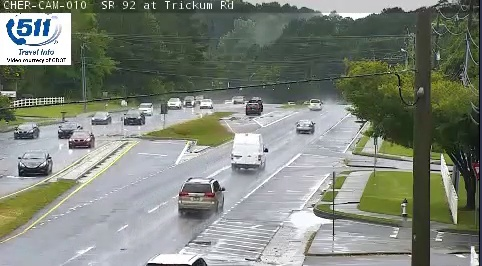car: (179, 178, 223, 210), (296, 119, 314, 133), (310, 100, 321, 111)
van: (233, 133, 264, 167)
